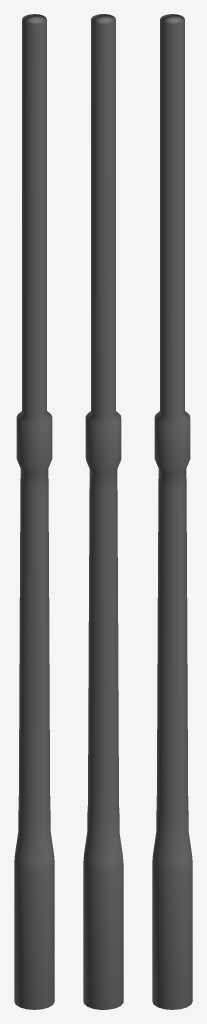
Rendered from station-sign-pole-unit-authored-atlas.glb.
The picture shows the model from 3 angles, left to right: view 1: azimuth 90°, elevation 25°; view 2: azimuth 150°, elevation 25°; view 3: azimuth 270°, elevation 25°; orthographic projection.
Visible parts, largest first — view 1: Authored surface; view 2: Authored surface; view 3: Authored surface.
Boxes of the visible parts, <box> form: Authored surface: <box>14,14,54,1009</box>; Authored surface: <box>83,14,123,1009</box>; Authored surface: <box>152,14,192,1009</box>.
Bounding box in the file's own units: 0.3 × 8 × 0.3.
Materials: 1 (1 with a texture image).
